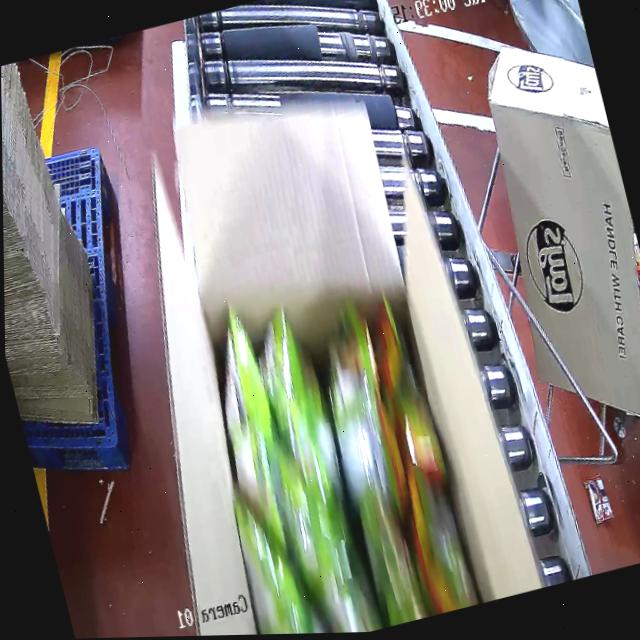YOGURT_HERB: (188, 289, 485, 636)
